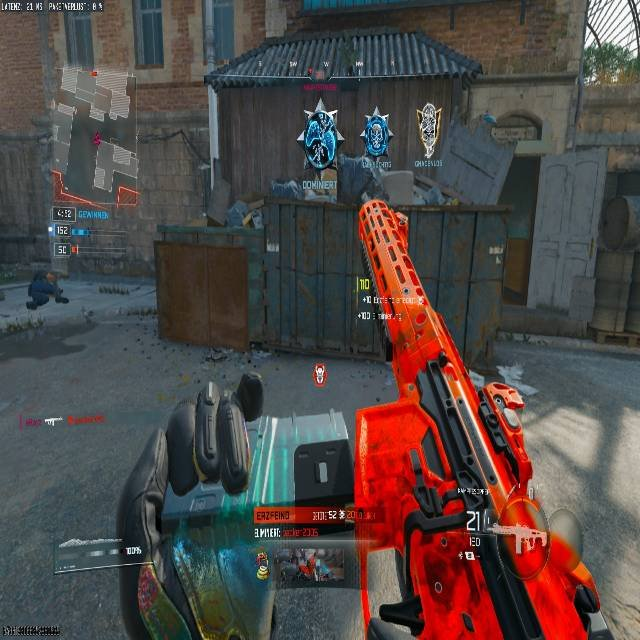player: (355, 107, 392, 197), (299, 104, 340, 182), (23, 268, 70, 310)
